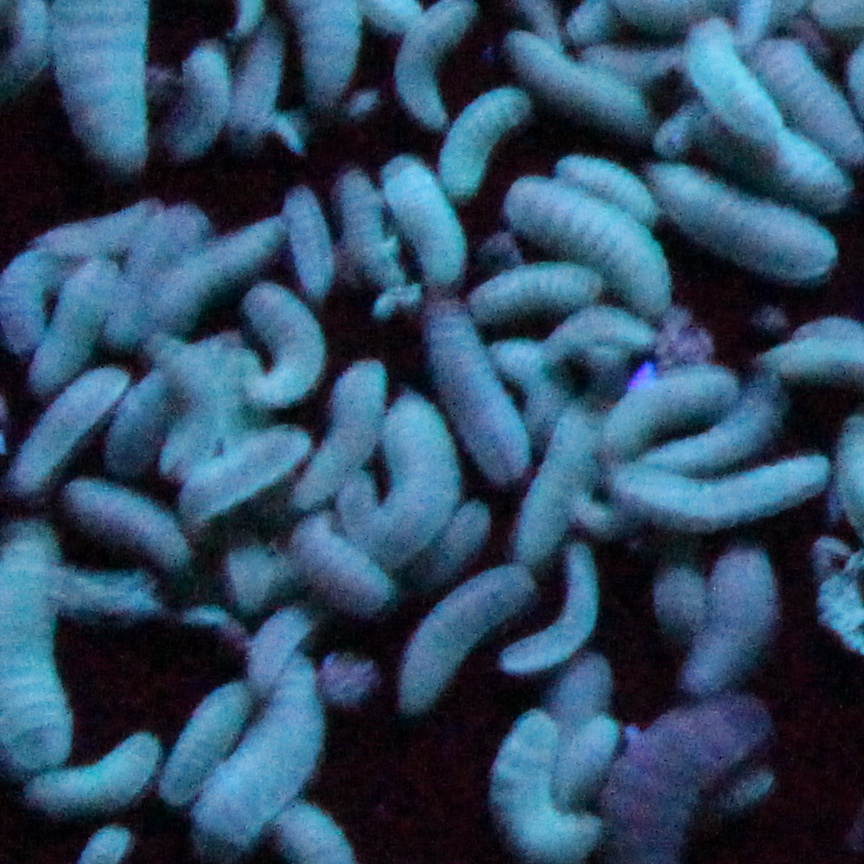larve: (205, 648, 338, 857), (645, 155, 843, 280), (405, 290, 532, 477), (334, 384, 458, 570), (503, 175, 676, 304), (496, 31, 656, 142), (407, 568, 521, 708), (690, 113, 859, 206), (645, 368, 792, 473), (292, 359, 387, 511), (14, 366, 125, 495), (156, 215, 287, 324), (618, 453, 829, 519), (514, 399, 601, 555), (67, 477, 196, 580), (238, 264, 330, 397), (683, 11, 783, 133), (689, 544, 770, 693), (179, 424, 309, 513), (614, 360, 741, 450), (30, 730, 158, 819), (32, 253, 114, 386), (143, 328, 218, 470), (285, 515, 385, 619), (163, 680, 249, 800), (507, 551, 596, 664), (445, 88, 527, 197), (538, 711, 625, 810), (550, 151, 663, 224), (387, 164, 458, 273), (163, 42, 225, 162), (545, 302, 660, 359), (34, 200, 154, 253), (281, 186, 338, 297), (330, 171, 387, 273), (236, 28, 283, 148), (478, 262, 587, 310)
